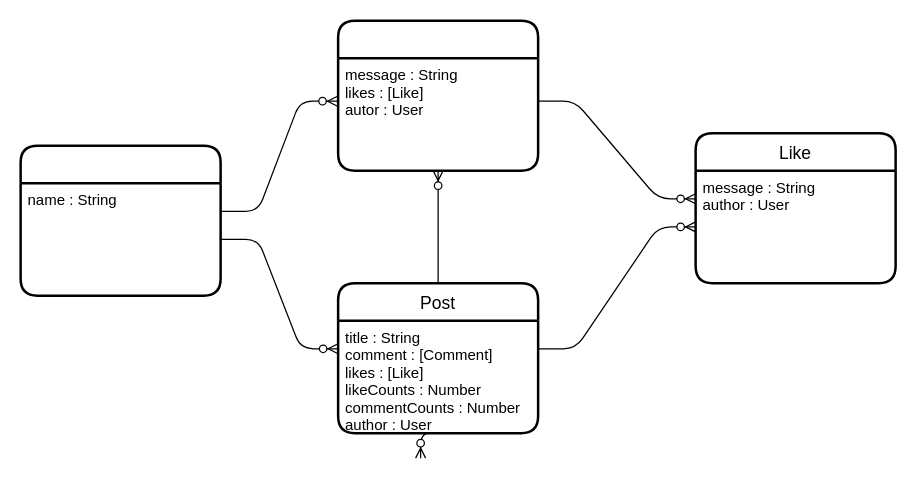
Image size: 916x479. Some labels were removed from this diagram. Each missing label, with the box of its shape:
Comment: (336, 19, 539, 171)
User: (19, 144, 221, 296)
